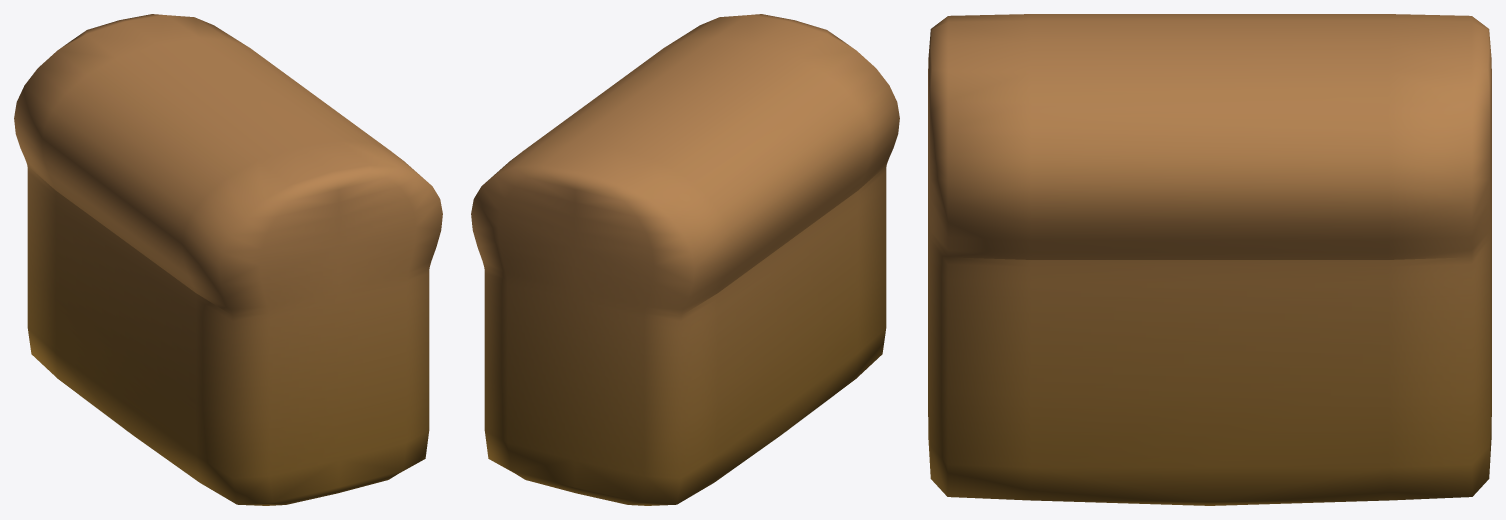
File: bread2.fbx
3 views of the same model, side by side, from view 1: azimuth 30°, elevation 25°; view 2: azimuth 150°, elevation 25°; view 3: azimuth 270°, elevation 25° (orthographic). The views are drawn at different scales.
Parts seen in each view (by area): view 1: bread2; view 2: bread2; view 3: bread2.
Part boxes in pixels (x1,y1,x2,y2): bread2: (14,14,442,505); bread2: (471,14,899,505); bread2: (928,14,1491,505).
Size of the model in its own units: 167 by 219 by 274.
